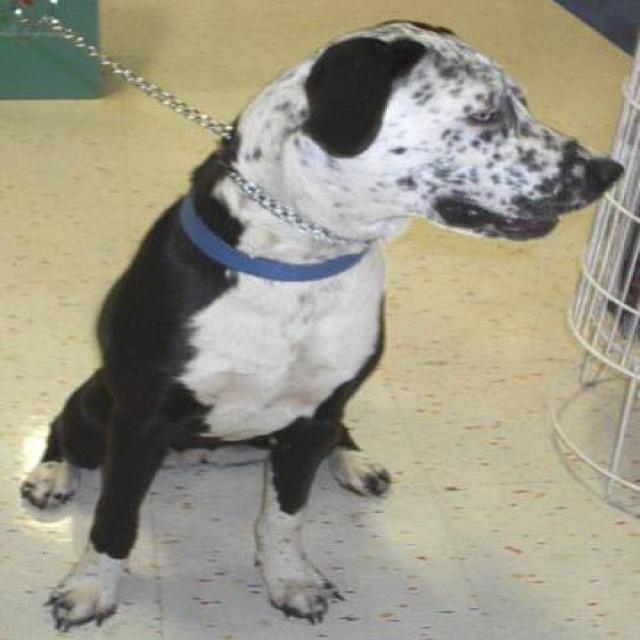dog: (18, 18, 624, 631)
